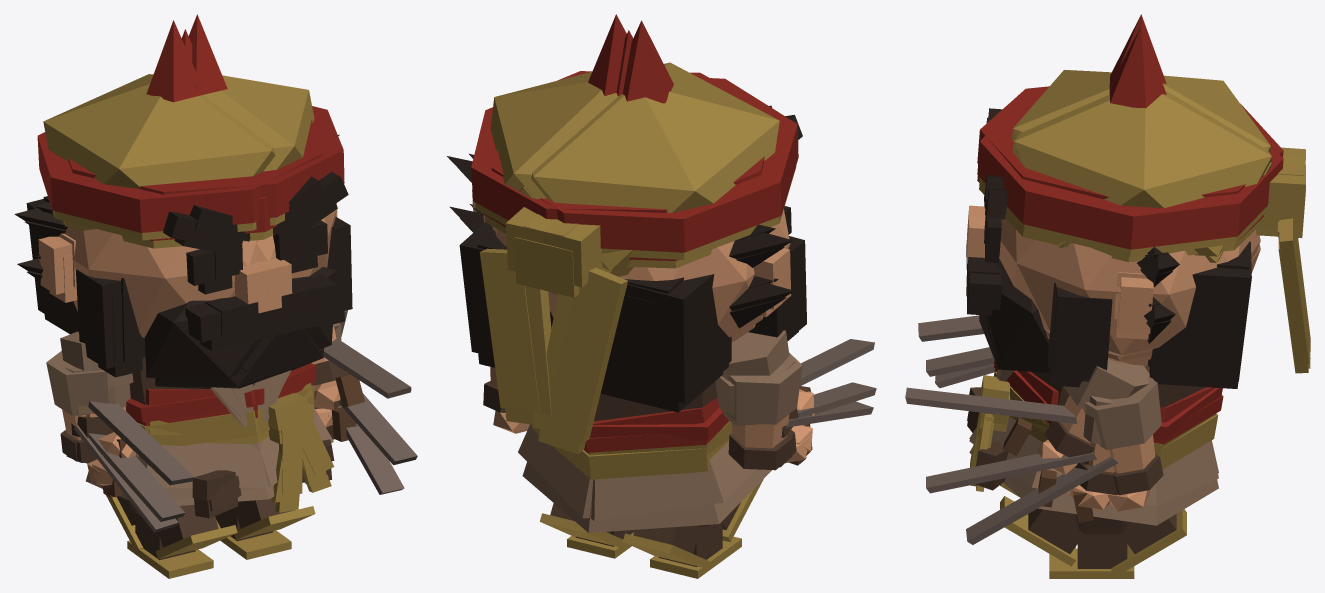
Rendered from yt_rusher_chibi_poses.glb.
3 views of the same model, side by side, from view 1: azimuth 30°, elevation 25°; view 2: azimuth 150°, elevation 25°; view 3: azimuth 270°, elevation 25° (orthographic). The views are drawn at different scales.
Parts seen in each view (by area): view 1: pose_1, pose_3, pose_0; view 2: pose_1, pose_3, pose_0; view 3: pose_3, pose_1, pose_0.
Boxes of the visible parts, left/top/right/bottom form: pose_1: left=14, top=20, right=411, bottom=549; pose_3: left=35, top=14, right=404, bottom=558; pose_0: left=25, top=29, right=417, bottom=578; pose_1: left=469, top=20, right=873, bottom=569; pose_3: left=447, top=14, right=874, bottom=549; pose_0: left=457, top=30, right=876, bottom=578; pose_3: left=918, top=26, right=1310, bottom=576; pose_1: left=905, top=14, right=1310, bottom=566; pose_0: left=926, top=162, right=1310, bottom=578.
Size of the model in its own units: 1.09 by 1.64 by 1.14.
